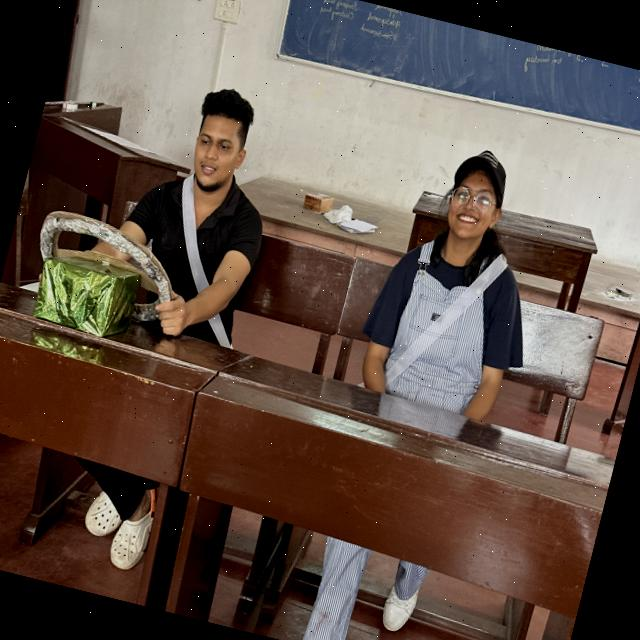seatbelt: (352, 226, 534, 428), (103, 159, 279, 345)
